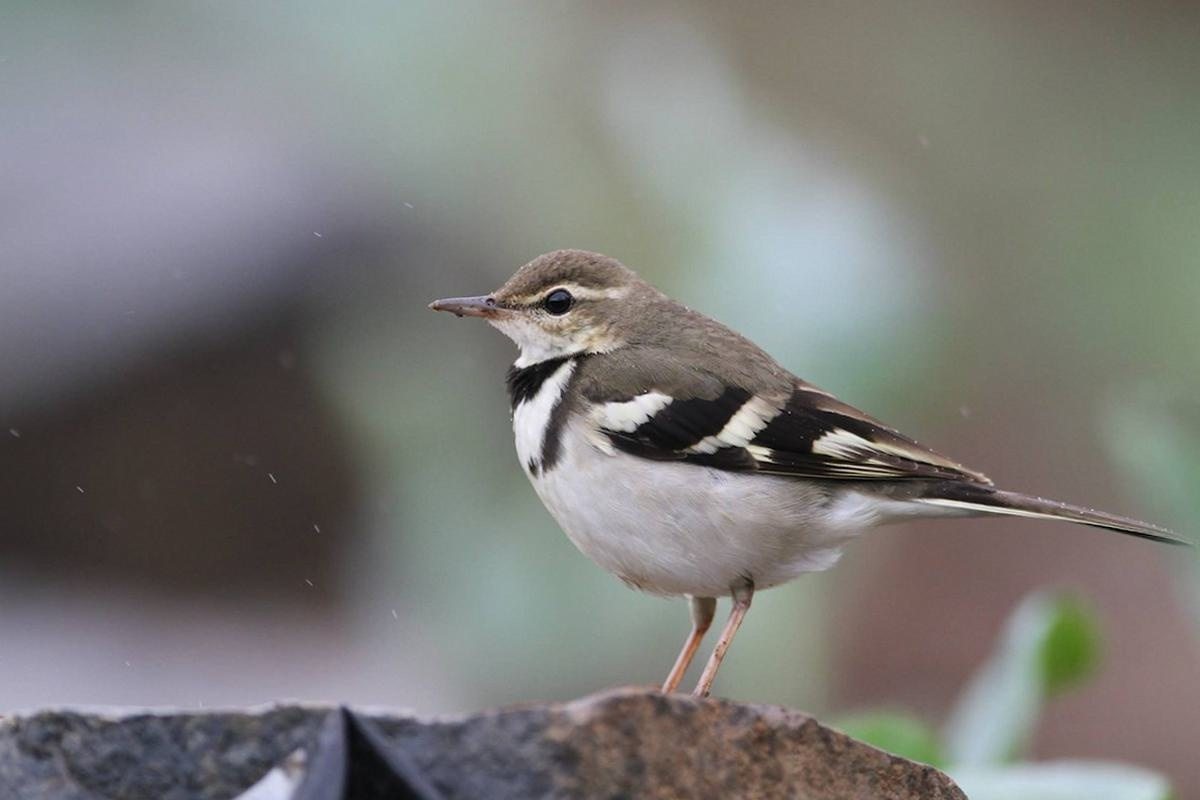wagtail: (459, 190, 1021, 715)
